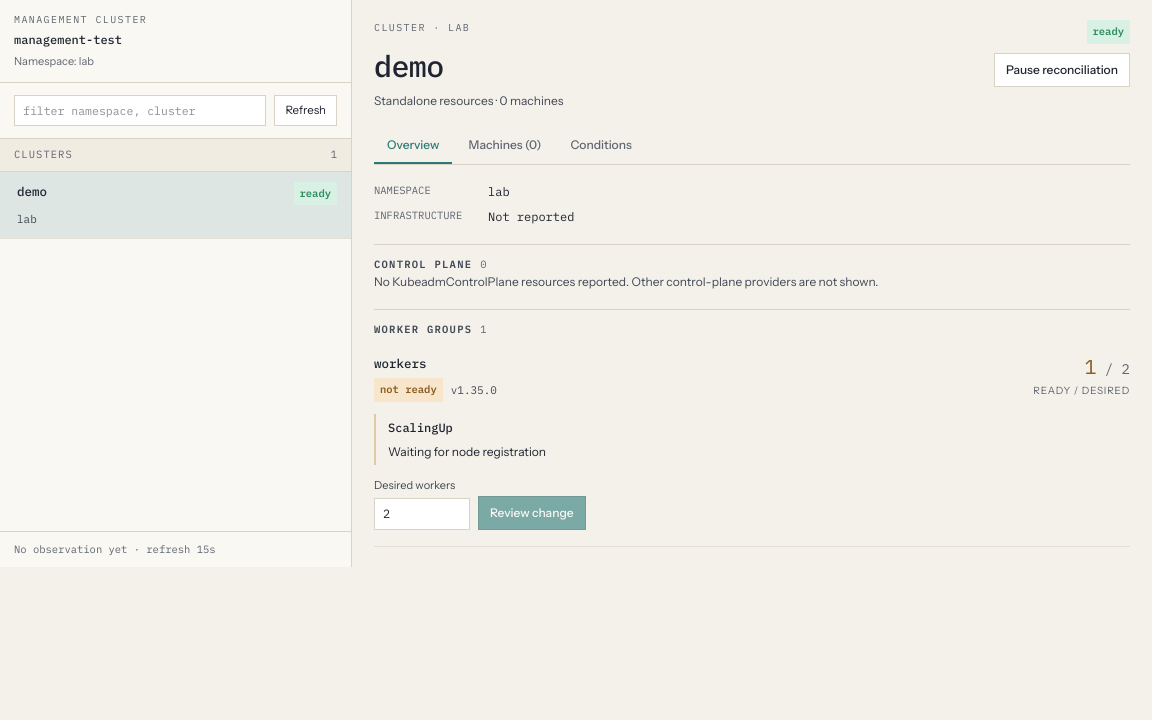
cancels a reviewed operation with Escape without sending a change
Click the button "Pause reconciliation". click: click(1062, 70)
box: [994,52,1130,86]
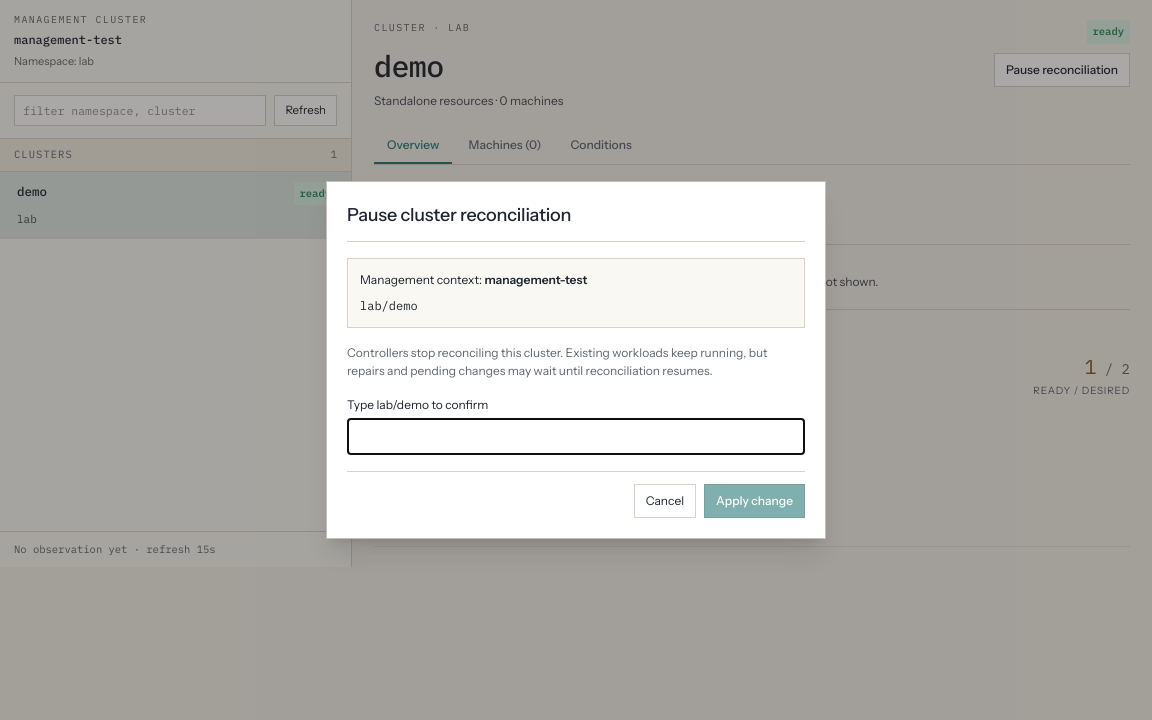
expect the dialog is shown: met
Press Escape
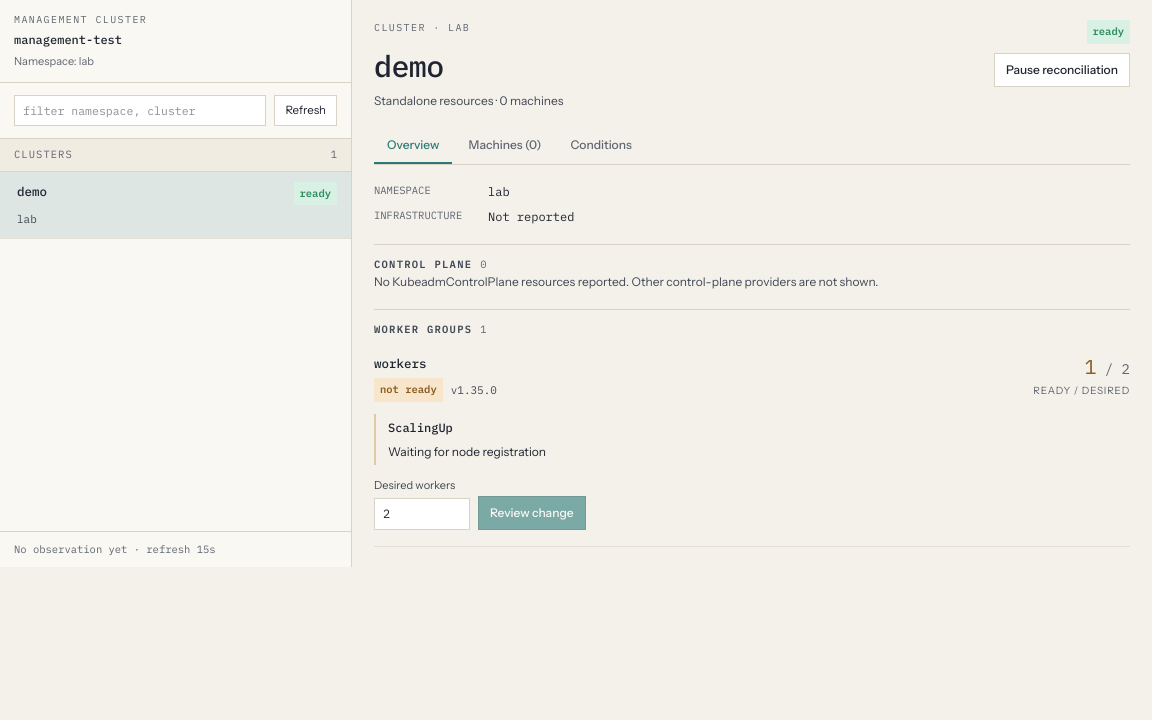
expect the dialog is gone: met
